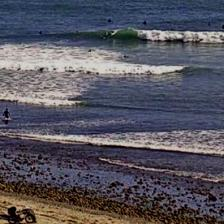surfer: (107, 19, 112, 22), (124, 55, 129, 58), (221, 24, 223, 30), (143, 20, 146, 24), (110, 31, 114, 33), (88, 50, 92, 52), (208, 22, 210, 25), (40, 31, 42, 34)
